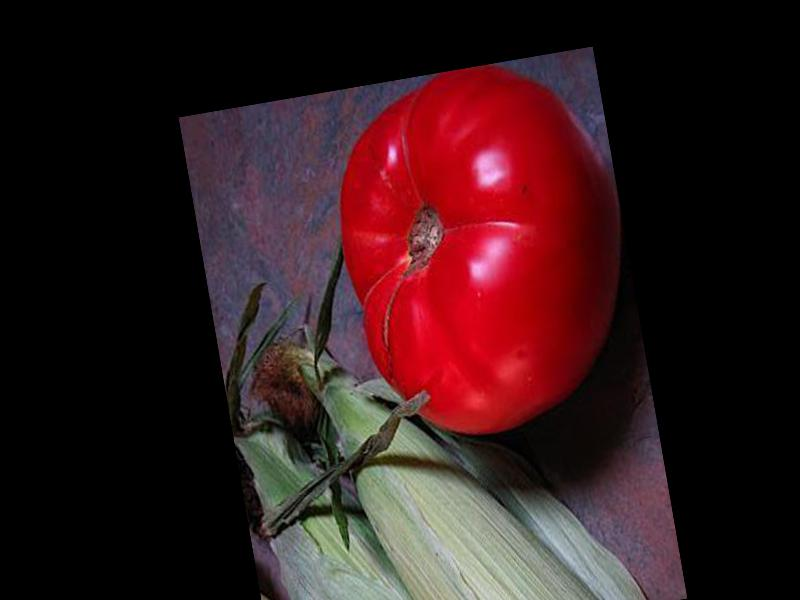Tomato: (316, 50, 650, 451)
